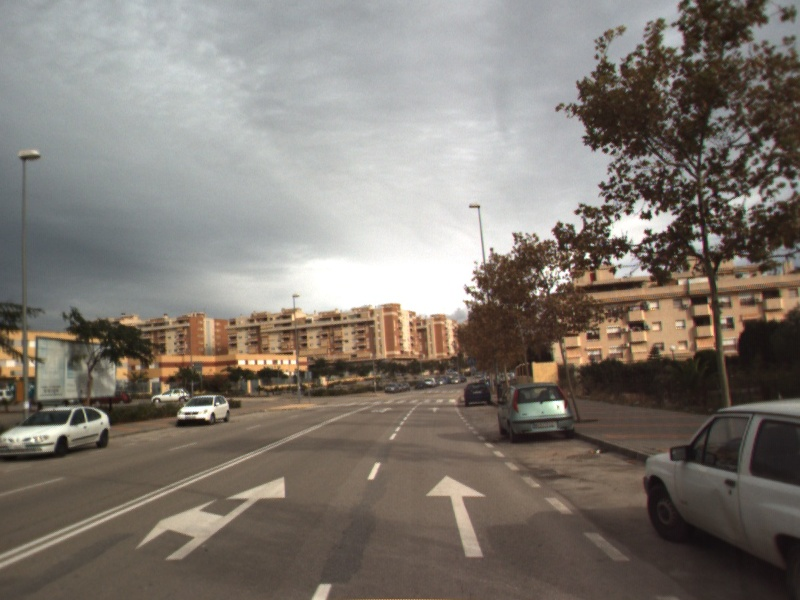STRAIGHT: (423, 472, 489, 559), (426, 406, 443, 414)
STRAIGHT_LEFT: (133, 475, 287, 562), (369, 405, 396, 415)
